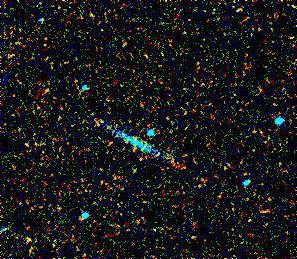star: (124, 143, 154, 173)
